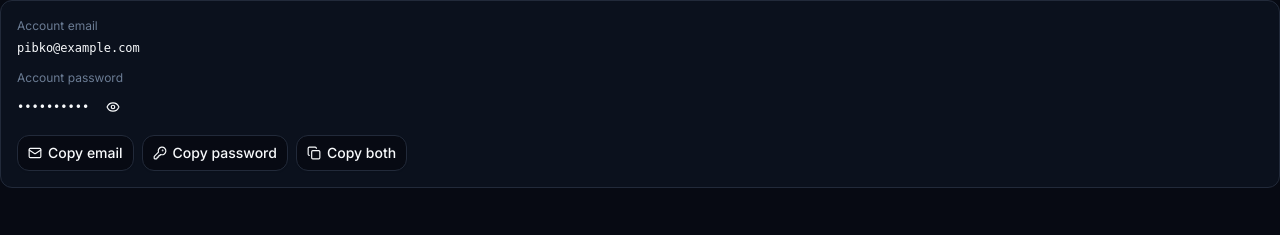
Test: SelectedAccountCredentials › discards an answer that belongs to a different account
The image size is (1280, 235).
Click the button "Copy both" at (352, 153), box [296,135,407,171]
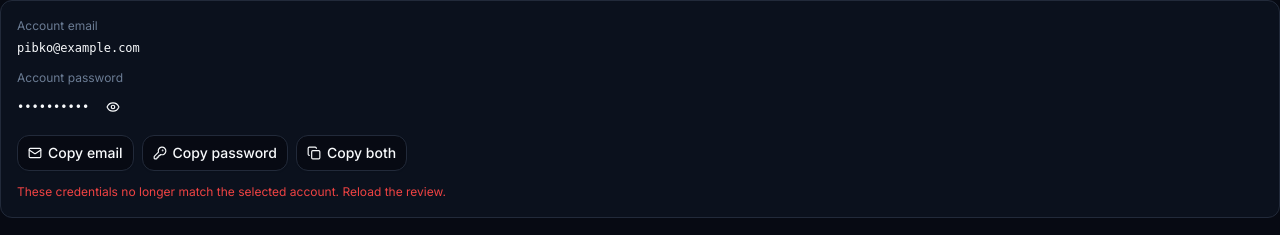
Check: the message "These credentials no longer match the selected account. Reload the review." is shown, box [17,184,446,199]
